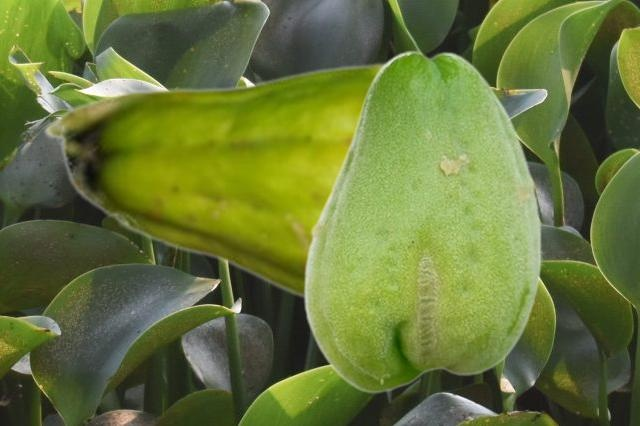sayote: (42, 61, 514, 302), (302, 49, 541, 392)
